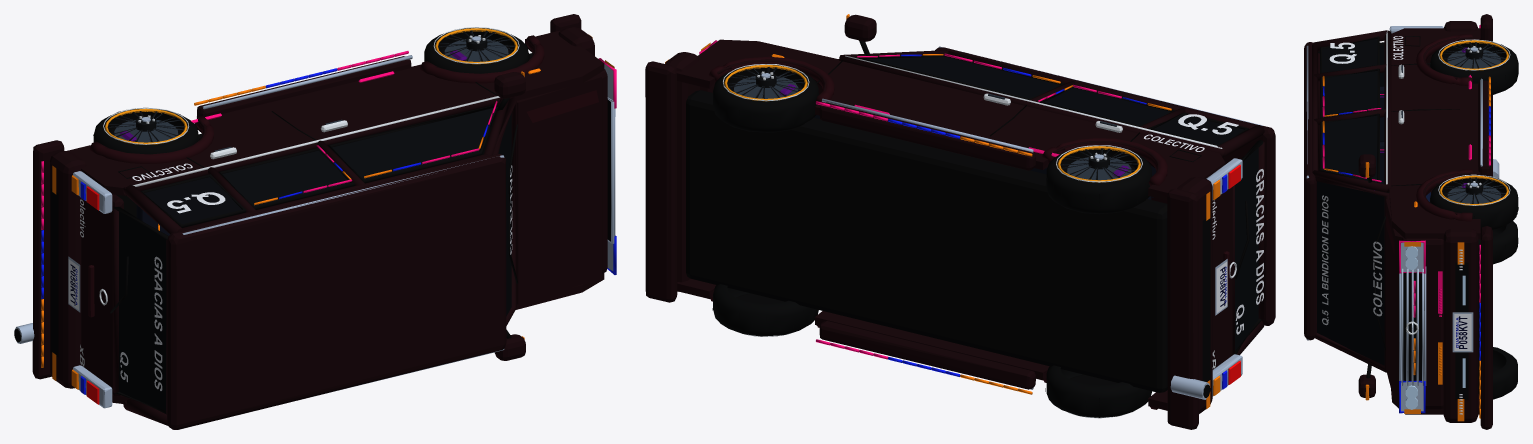
Rendered from 03-colectivo-q5-medium.obj.
3 renders of one model, left to right at view 1: azimuth 30°, elevation 25°; view 2: azimuth 150°, elevation 25°; view 3: azimuth 270°, elevation 25°, orthographic. The views are drawn at different scales.
Parts seen in each view (by area): view 1: 03-colectivo-q5-medium; view 2: 03-colectivo-q5-medium; view 3: 03-colectivo-q5-medium.
Boxes of the visible parts, <box> form: 03-colectivo-q5-medium: <box>14,14,616,429</box>; 03-colectivo-q5-medium: <box>645,14,1275,429</box>; 03-colectivo-q5-medium: <box>1304,14,1518,429</box>.
Size of the model in its own units: 4.64 by 2.25 by 1.84.
